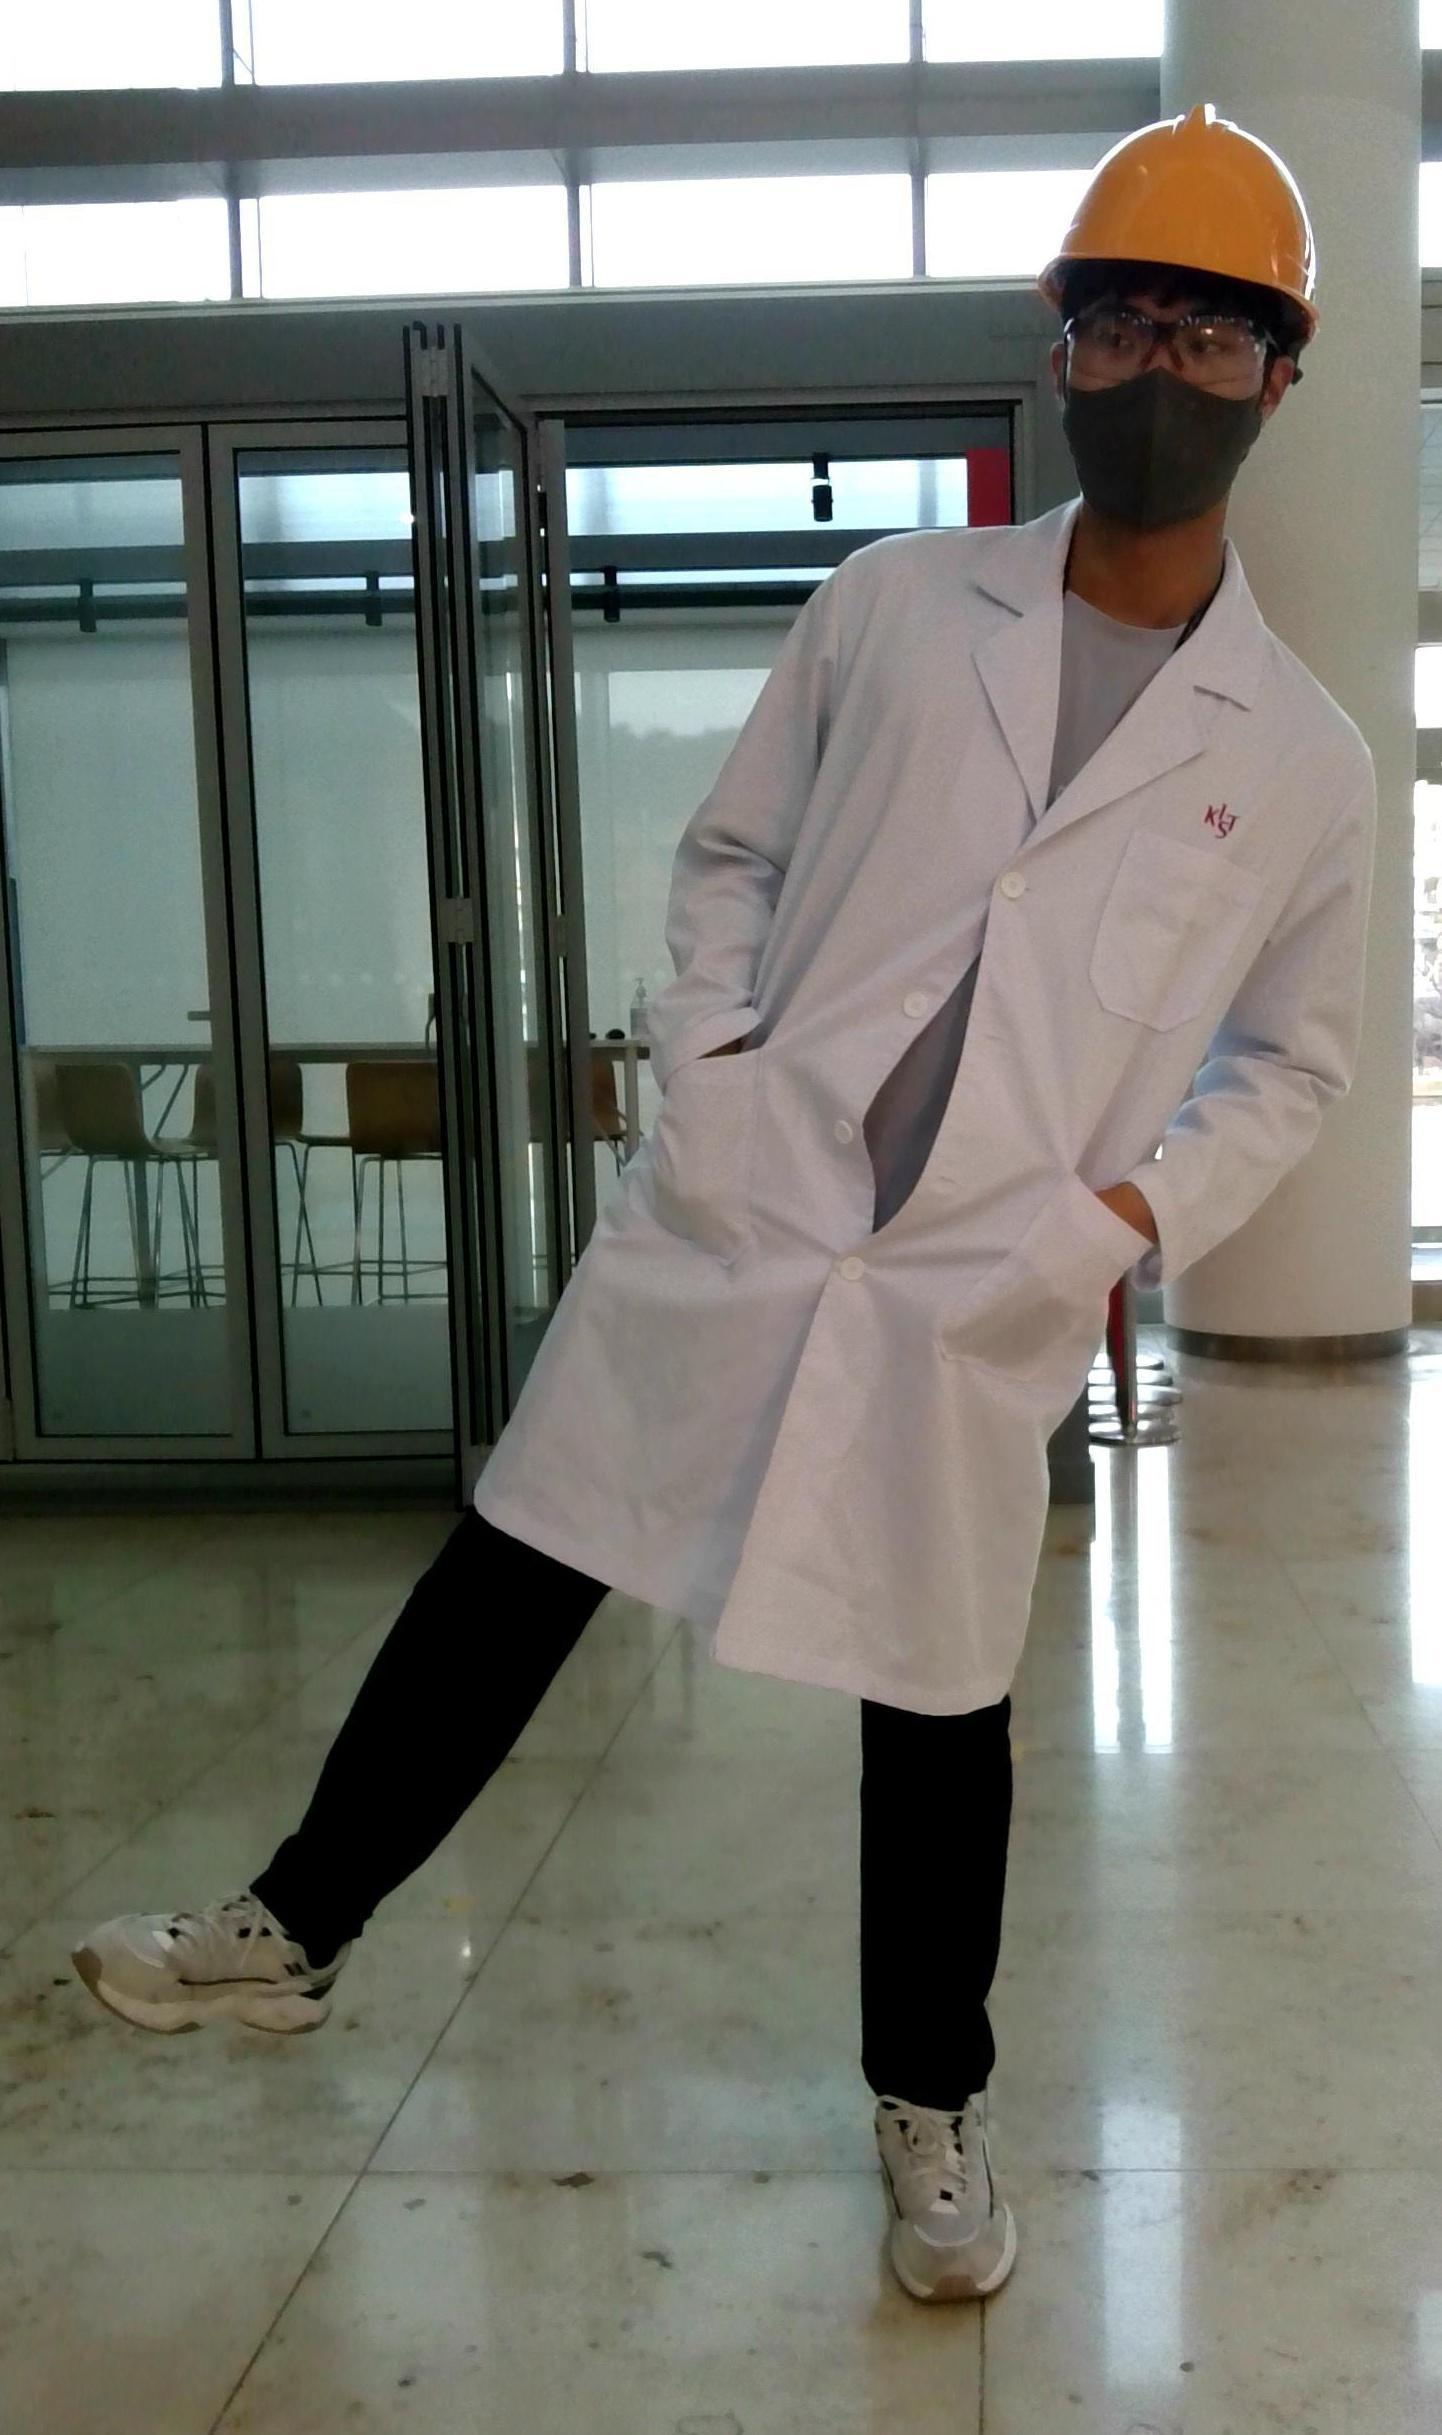lab_coat: (496, 541, 1363, 1592)
